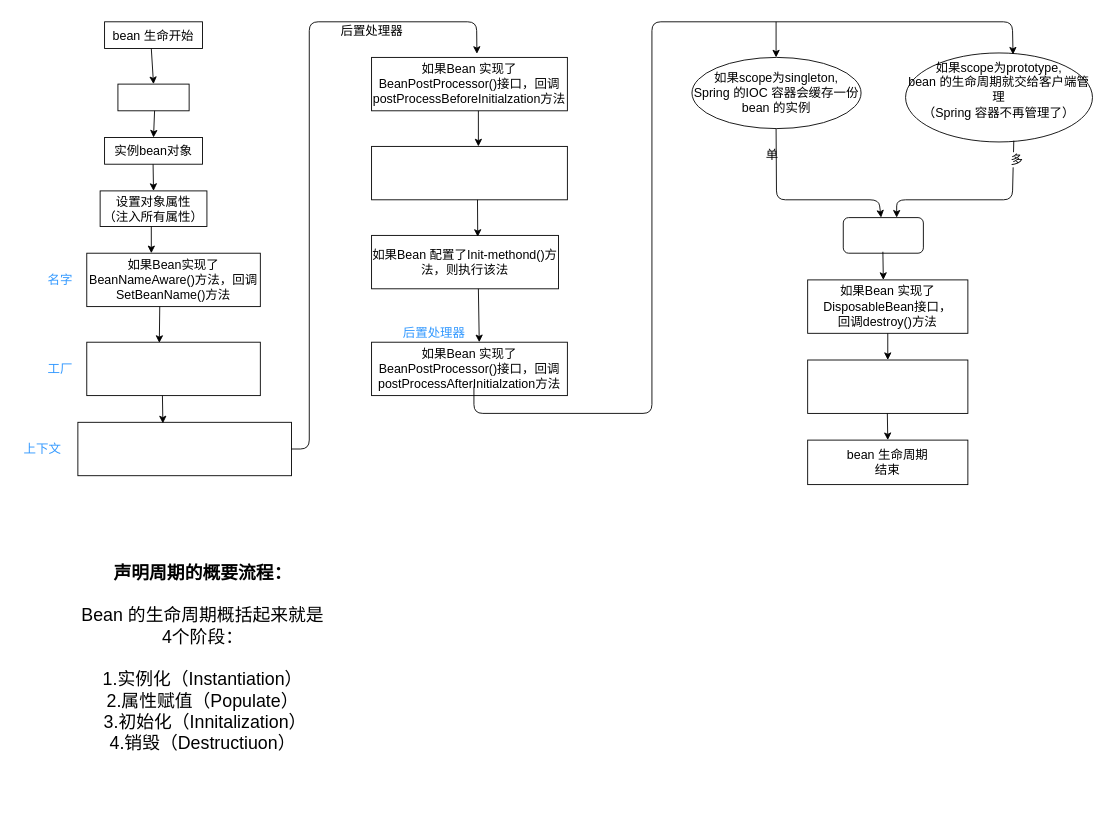
This 1108x833 diagram has some shape labels left out. Each missing label, with the box of its shape:
如果Bean 实现了InitalzingBean()接口，回调afterPropertiesSet方法: (371, 146, 567, 200)
如果Bean 配置了destroy-methond()方法， 则执行该方法: (807, 359, 968, 413)
如果Bean实现了 BeanFactoryAware()方法，回调 SetBeanFactory()方法: (86, 341, 260, 396)
如果Bean实现了ApplicationContextAware()方法，回调 SetApplicationContext()方法: (77, 421, 291, 476)
容器关闭: (842, 217, 923, 253)
容器启动: (117, 83, 189, 111)
